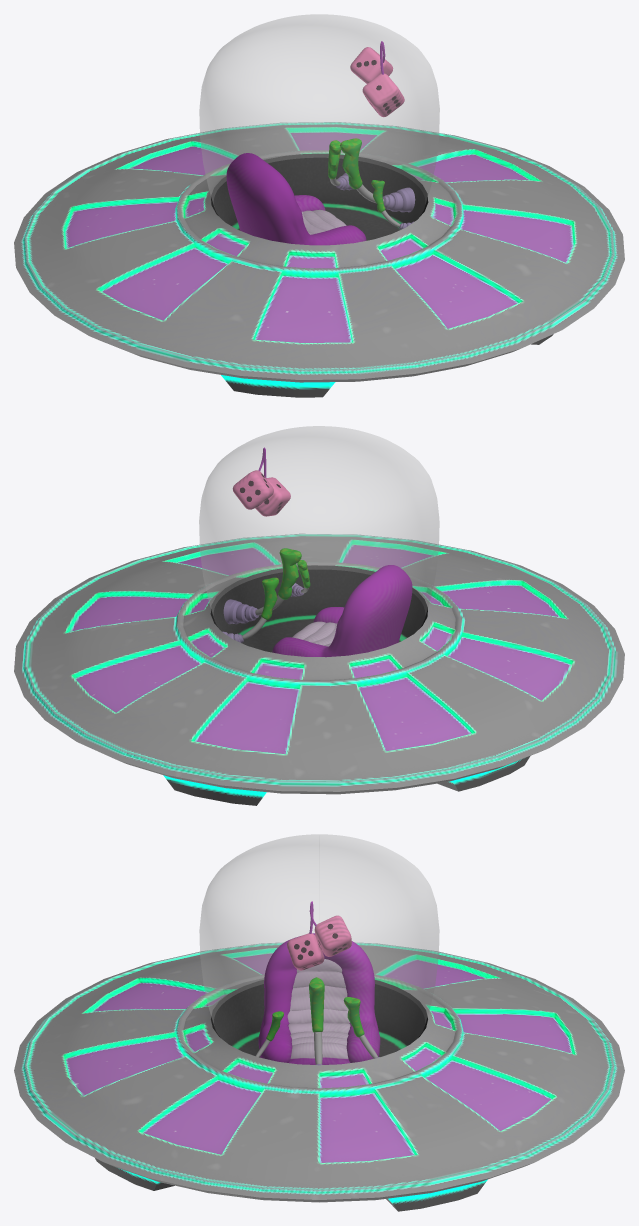
Rendered from ufo.glb.
3 renders of one model, top to bottom at view 1: azimuth 30°, elevation 25°; view 2: azimuth 150°, elevation 25°; view 3: azimuth 270°, elevation 25°, orthographic.
Visible parts, largest first — view 1: Saucer; view 2: Saucer; view 3: Saucer.
Boxes of the visible parts, left/top/right/bottom form: Saucer: left=14, top=14, right=624, bottom=397; Saucer: left=14, top=426, right=624, bottom=805; Saucer: left=14, top=834, right=624, bottom=1211.
Bounding box in the file's own units: 5.07 × 2.65 × 5.07.
2 materials, 1 textured.
